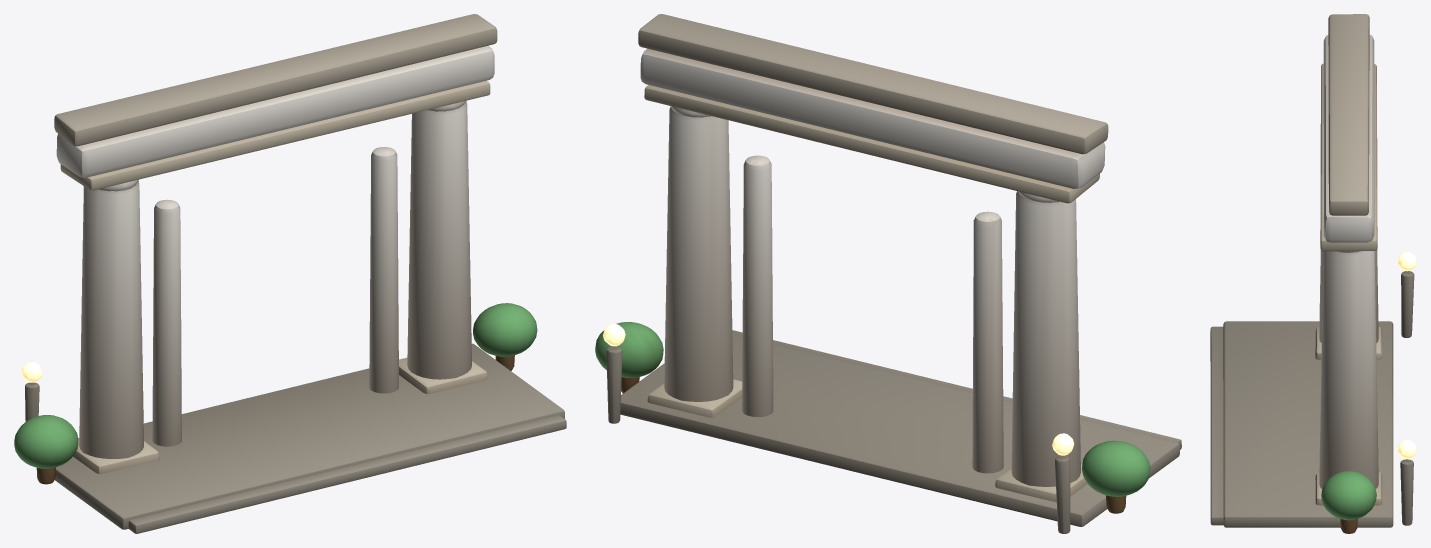
3 views of the same model, side by side, from view 1: azimuth 30°, elevation 25°; view 2: azimuth 150°, elevation 25°; view 3: azimuth 270°, elevation 25° (orthographic). The views are drawn at different scales.
Parts seen in each view (by area): view 1: gate_396760e2; view 2: gate_396760e2; view 3: gate_396760e2.
Part boxes in pixels (box(x1,y1,x2,y2)): gate_396760e2: box(14, 14, 566, 533); gate_396760e2: box(595, 14, 1181, 533); gate_396760e2: box(1210, 14, 1416, 533).
Size of the model in its own units: 6.71 by 4.43 by 2.55.
